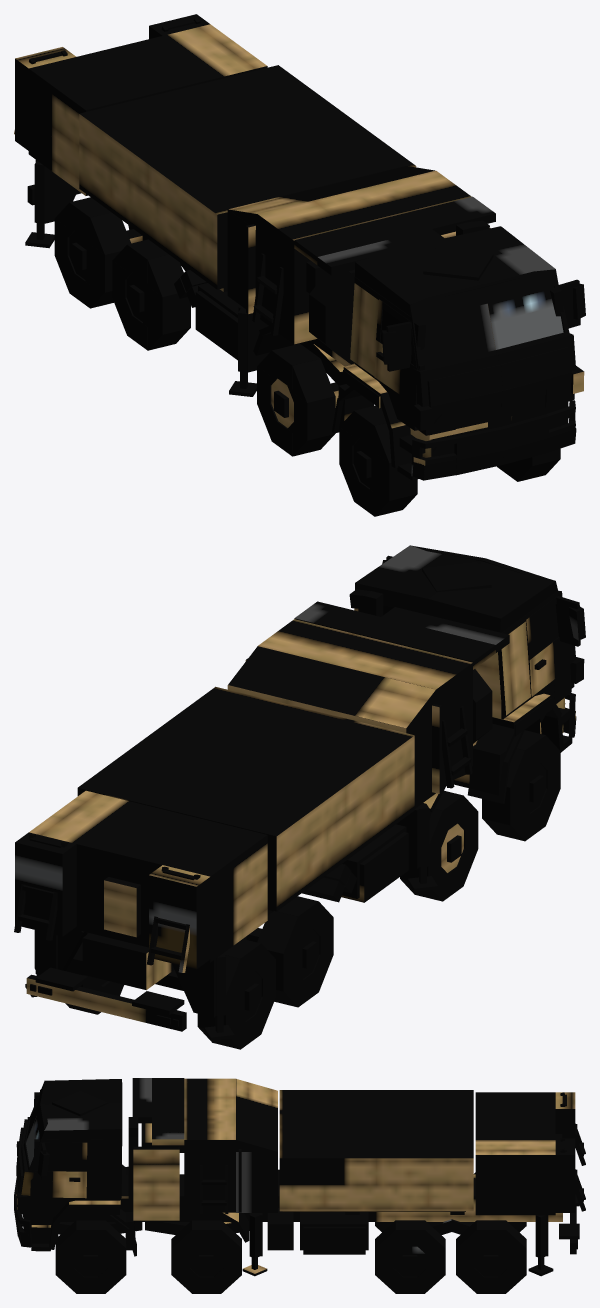
The model's file is pancsir.obj.
3 views of the same model, one above another, from view 1: azimuth 30°, elevation 25°; view 2: azimuth 150°, elevation 25°; view 3: azimuth 270°, elevation 25° (orthographic). The views are drawn at different scales.
Parts seen in each view (by area): view 1: body, w3, w5, w7, w1, w2; view 2: body, w5, w1, w7, w3, w8; view 3: body, w2, w4, w6, w8.
Part boxes in pixels (x1,y1,x2,y2): body: (14,14,585,480); w3: (257,343,335,456); w5: (112,239,190,350); w7: (54,197,131,308); w1: (339,405,417,516); w2: (497,448,560,481); body: (14,545,585,1040); w5: (257,896,333,1007); w1: (482,730,560,841); w7: (197,939,275,1049); w3: (400,790,478,901); w8: (65,933,123,1014); body: (14,1078,585,1276); w2: (55,1220,126,1293); w4: (171,1220,241,1293); w6: (375,1220,445,1293); w8: (456,1220,526,1293).
Bounding box in the file's own units: 3.31 × 3.48 × 11.12.
